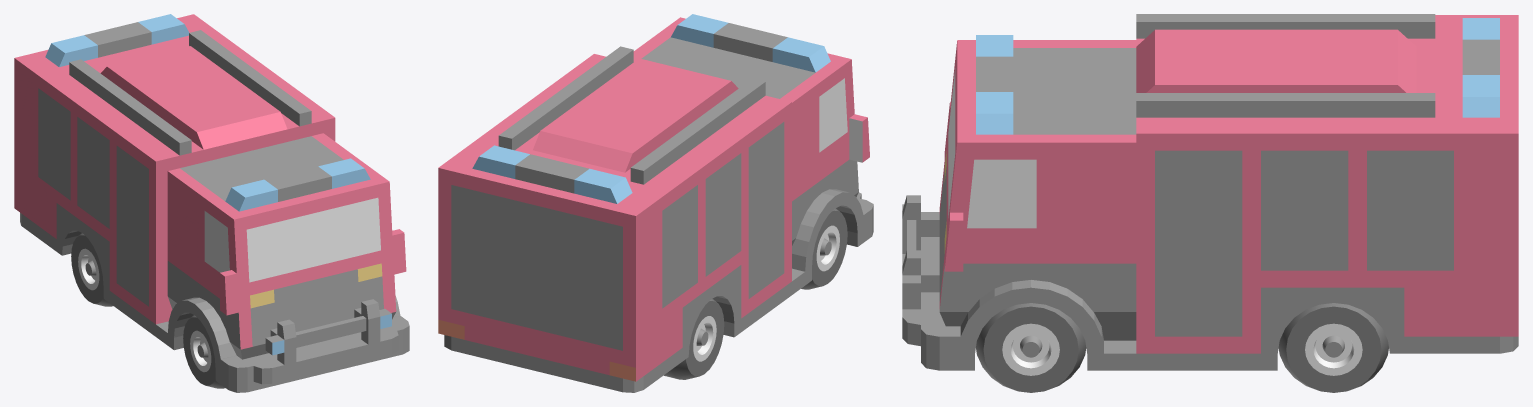
Rendered from firetruck.fbx.
3 views of the same model, side by side, from view 1: azimuth 30°, elevation 25°; view 2: azimuth 150°, elevation 25°; view 3: azimuth 270°, elevation 25° (orthographic). The views are drawn at different scales.
Visible parts, largest first — view 1: body, grill, wheel_backRight, wheel_frontRight; view 2: body, wheel_backRight, wheel_frontRight; view 3: body, wheel_backLeft, wheel_frontLeft, grill.
Part boxes in pixels (left/top/right/bottom): body: left=14, top=14, right=409, bottom=392; grill: left=253, top=299, right=398, bottom=384; wheel_backRight: left=71, top=233, right=112, bottom=306; wheel_frontRight: left=183, top=315, right=224, bottom=388; body: left=438, top=14, right=873, bottom=392; wheel_backRight: left=664, top=298, right=724, bottom=379; wheel_frontRight: left=801, top=208, right=847, bottom=289; body: left=921, top=14, right=1518, bottom=370; wheel_backLeft: left=1278, top=303, right=1388, bottom=392; wheel_frontLeft: left=976, top=303, right=1086, bottom=392; grill: left=902, top=195, right=939, bottom=346.
Bounding box in the file's own units: 150 × 170 × 330.
